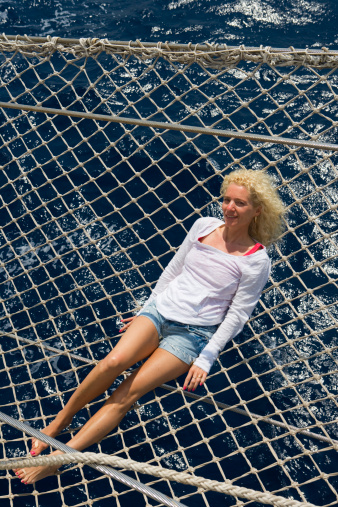deitado: (13, 166, 283, 443)
